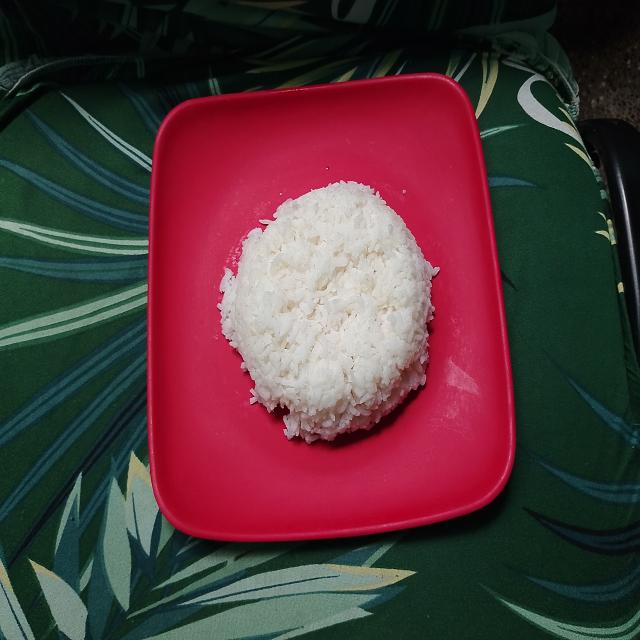Chicken -Chicken Inasal-: (224, 179, 437, 443)
